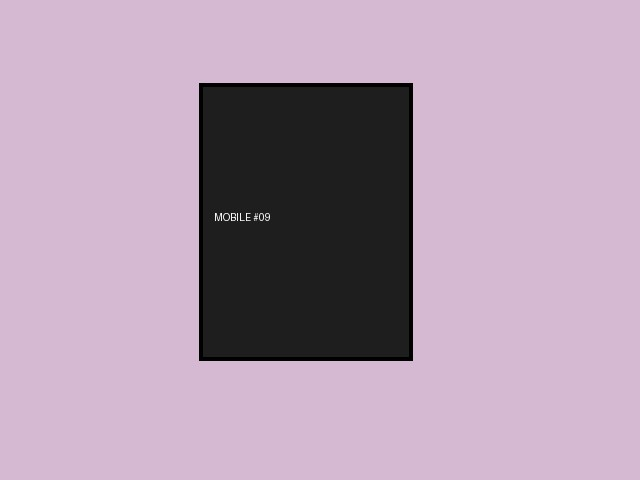mobile_phone: (199, 83, 412, 360)
